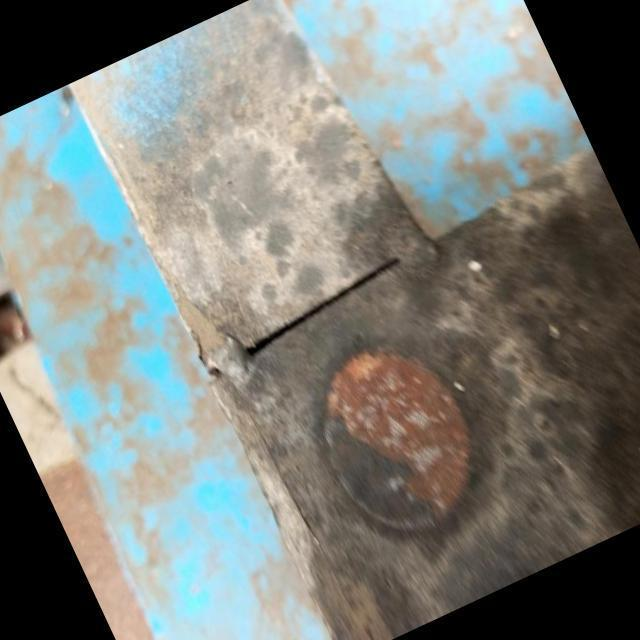defect: (239, 254, 405, 357)
